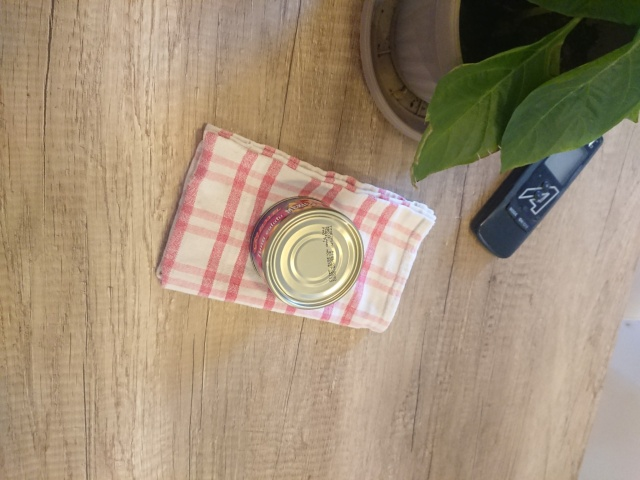Giana Tuna Salad Mexico 185g: (247, 193, 368, 311)
